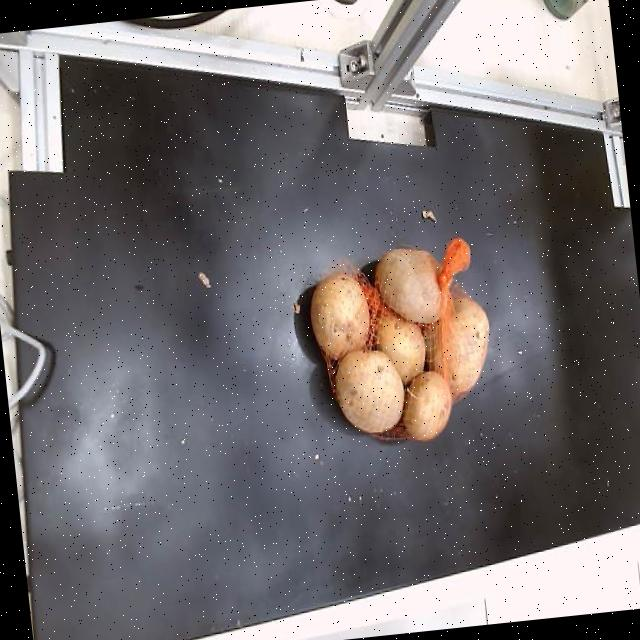potato: (334, 349, 403, 432), (309, 272, 368, 357), (374, 249, 440, 321), (445, 295, 488, 395), (401, 371, 451, 440), (377, 314, 424, 383)
